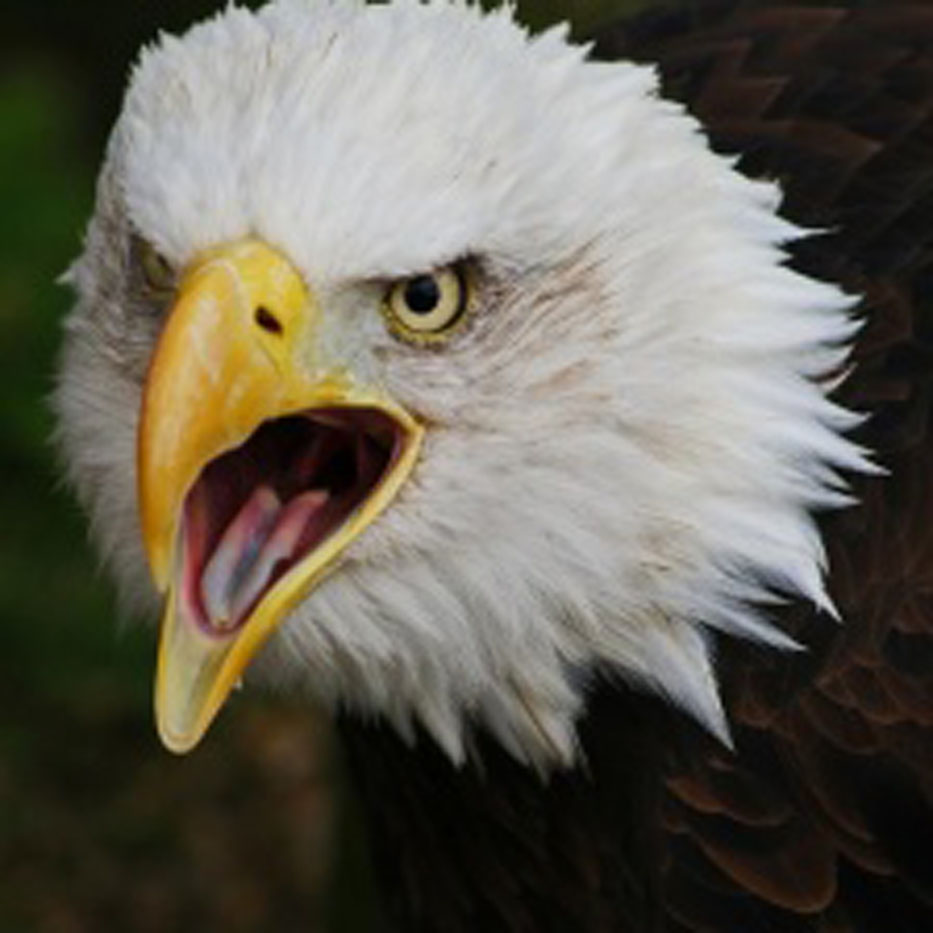Pengoyak Daging: (80, 202, 384, 763)
